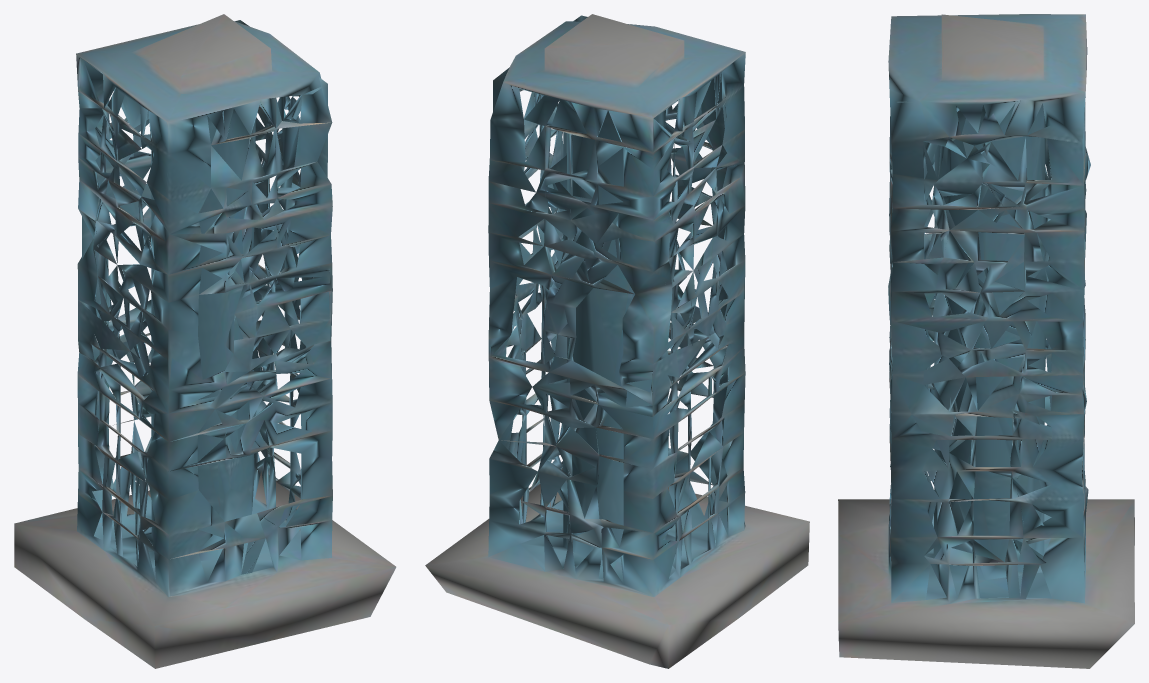
Rendered from skyscraper.glb.
3 renders of one model, left to right at view 1: azimuth 30°, elevation 25°; view 2: azimuth 150°, elevation 25°; view 3: azimuth 270°, elevation 25°, orthographic. The views are drawn at different scales.
Parts seen in each view (by area): view 1: tripo_node_70615dff-3458-4bcc-9957-417d99a3eae8; view 2: tripo_node_70615dff-3458-4bcc-9957-417d99a3eae8; view 3: tripo_node_70615dff-3458-4bcc-9957-417d99a3eae8.
Boxes of the visible parts, x1,y1,x2,y2 form: tripo_node_70615dff-3458-4bcc-9957-417d99a3eae8: (14,14,396,668); tripo_node_70615dff-3458-4bcc-9957-417d99a3eae8: (425,14,809,668); tripo_node_70615dff-3458-4bcc-9957-417d99a3eae8: (838,14,1134,668).
Size of the model in its own units: 0.4656 by 1 by 0.4669.
1 material, 1 textured.
